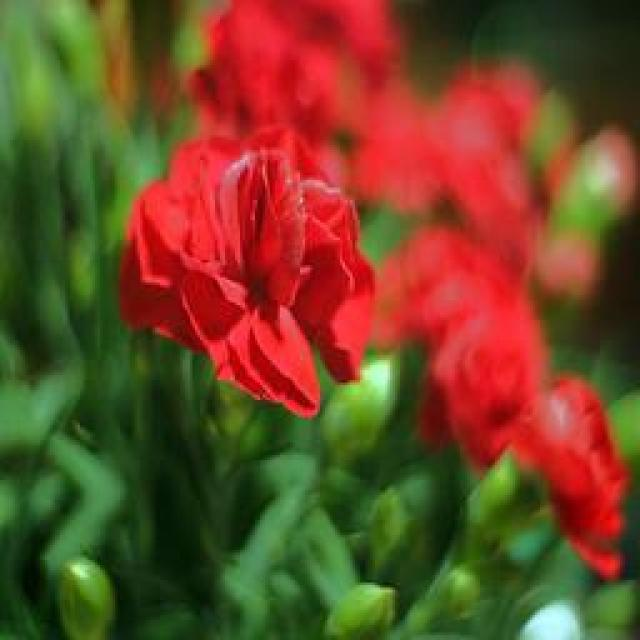carnation: (98, 121, 383, 429)
